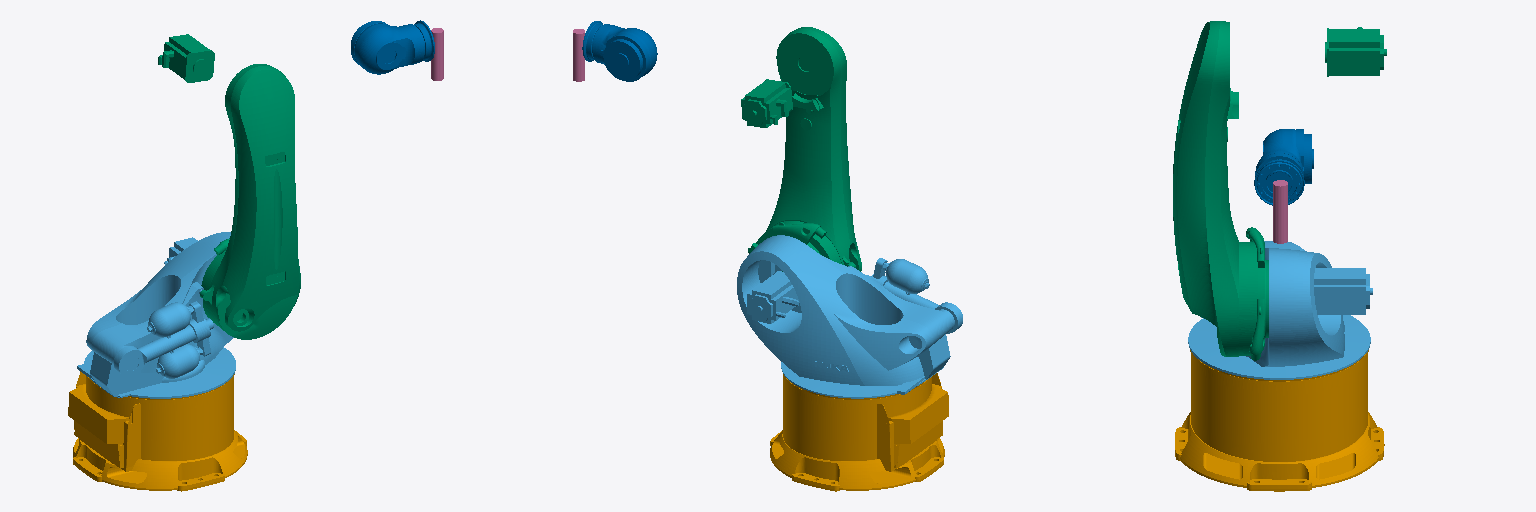
The robot description file, URDF, robot "unnamed":
<robot name="unnamed" version="1.0">
  <joint name="kuka-arm-004_link_joint" type="revolute">
    <limit lower="-1.00000" upper="1.00000" effort="1.11000" velocity="0.00000"/>
    <origin rpy="0.00000 0.00000 0.00000" xyz="0.00971 -0.01443 9.84568"/>
    <parent link="kuka-arm-005_link"/>
    <child link="kuka-arm-004_link"/>
    <axis xyz="0.00000 0.00000 1.00000"/>
  </joint>
  <joint name="kuka-arm-003_link_joint" type="revolute">
    <limit lower="-0.33000" upper="0.49000" effort="1.11000" velocity="0.00000"/>
    <origin rpy="-0.00000 -0.00000 -0.00000" xyz="8.21240 0.22730 6.83013"/>
    <parent link="kuka-arm-004_link"/>
    <child link="kuka-arm-003_link"/>
    <axis xyz="0.00000 1.00000 0.00000"/>
  </joint>
  <joint name="kuka-arm-002_link_joint" type="revolute">
    <limit lower="-0.33000" upper="0.49000" effort="1.11000" velocity="0.00000"/>
    <origin rpy="0.00000 -0.00000 0.00000" xyz="0.01569 -0.13262 21.69338"/>
    <parent link="kuka-arm-003_link"/>
    <child link="kuka-arm-002_link"/>
    <axis xyz="0.00000 1.00000 0.00000"/>
  </joint>
  <joint name="kuka-arm-001_link_joint" type="revolute">
    <limit lower="-0.33000" upper="0.49000" effort="1.11000" velocity="0.00000"/>
    <origin rpy="-0.00000 0.00000 -0.00000" xyz="16.66716 0.08146 -0.95556"/>
    <parent link="kuka-arm-002_link"/>
    <child link="kuka-arm-001_link"/>
    <axis xyz="0.00000 1.00000 0.00000"/>
  </joint>
  <joint name="kuka-arm-000_link_joint" type="revolute">
    <limit lower="0.00000" upper="0.00000" effort="0.00000" velocity="0.00000"/>
    <origin rpy="0.00000 0.00000 -0.00000" xyz="6.29044 -0.19594 0.07072"/>
    <parent link="kuka-arm-001_link"/>
    <child link="kuka-arm-000_link"/>
    <axis xyz="1.00000 0.00000 0.00000"/>
  </joint>
  <joint name="kuka-arm-000-2_link_joint" type="revolute">
    <limit lower="0.00000" upper="1.00000" effort="0.00000" velocity="0.00000"/>
    <origin rpy="0.00000 0.00000 0.00000" xyz="0.59303 0.13547 -7.77616"/>
    <parent link="kuka-arm-000_link"/>
    <child link="kuka-arm-000-2_link"/>
    <axis xyz="0.00000 0.00000 1.00000"/>
  </joint>
  <link name="kuka-arm-005_link">
    <visual name="kuka-arm-005">
      <material name="None"/>
      <origin rpy="0.00000 0.00000 0.00000" xyz="0.00000 0.00000 0.00000"/>
      <geometry>
        <mesh filename="../meshes/stl/kuka-arm-005.stl" scale="1 1 1"/>
      </geometry>
    </visual>
  </link>
  <link name="kuka-arm-004_link">
    <visual name="kuka-arm-004">
      <material name="None"/>
      <origin rpy="0.00000 0.00000 0.00000" xyz="-0.00971 0.01443 -9.84568"/>
      <geometry>
        <mesh filename="../meshes/stl/kuka-arm-004.stl" scale="1 1 1"/>
      </geometry>
    </visual>
  </link>
  <link name="kuka-arm-003_link">
    <visual name="kuka-arm-003">
      <material name="None"/>
      <origin rpy="-0.00000 -0.00000 0.00000" xyz="-8.22211 -0.21286 -16.67581"/>
      <geometry>
        <mesh filename="../meshes/stl/kuka-arm-003.stl" scale="1 1 1"/>
      </geometry>
    </visual>
  </link>
  <link name="kuka-arm-002_link">
    <visual name="kuka-arm-002">
      <material name="None"/>
      <origin rpy="-0.00000 0.00000 -0.00000" xyz="-8.23780 -0.08024 -38.36919"/>
      <geometry>
        <mesh filename="../meshes/stl/kuka-arm-002.stl" scale="1 1 1"/>
      </geometry>
    </visual>
  </link>
  <link name="kuka-arm-001_link">
    <collision name="kuka-arm-001_collision">
      <origin rpy="-0.00000 1.57080 0.00000" xyz="3962.42564 508.56456 1264.73506"/>
      <geometry>
        <cylinder radius="6178.39258" length="18123.28516"/>
      </geometry>
    </collision>
    <visual name="kuka-arm-001">
      <material name="None"/>
      <origin rpy="0.00000 0.00000 0.00000" xyz="-24.90497 -0.16170 -37.41364"/>
      <geometry>
        <mesh filename="../meshes/stl/kuka-arm-001.stl" scale="1 1 1"/>
      </geometry>
    </visual>
  </link>
  <link name="kuka-arm-000_link">
    <visual name="kuka-arm-000">
      <material name="None"/>
      <origin rpy="0.00000 0.00000 0.00000" xyz="-1.49540 0.03424 0.03768"/>
      <geometry>
        <mesh filename="../meshes/stl/kuka-arm-000.stl" scale="1 1 1"/>
      </geometry>
    </visual>
  </link>
  <link name="kuka-arm-000-2_link">
    <visual name="kuka-arm-000-2">
      <material name="None"/>
      <origin rpy="0.00000 0.00000 0.00000" xyz="-0.00000 0.00000 -0.00000"/>
      <geometry>
        <mesh filename="../meshes/stl/Cylinder.003.stl" scale="1 1 1"/>
      </geometry>
    </visual>
  </link>
</robot>

--- Render facts (derived) ---
3 views of the same robot in one strip: view 1: azimuth 30°, elevation 25°; view 2: azimuth 150°, elevation 25°; view 3: azimuth 270°, elevation 25° (orthographic).
Robot: unnamed — 7 links, 6 joints (6 revolute); root link kuka-arm-005_link; default pose: every joint at zero.
Links seen in each view (by area): view 1: kuka-arm-003_link, kuka-arm-004_link, kuka-arm-005_link, kuka-arm-001_link, kuka-arm-000-2_link; view 2: kuka-arm-004_link, kuka-arm-003_link, kuka-arm-005_link, kuka-arm-001_link, kuka-arm-000-2_link; view 3: kuka-arm-003_link, kuka-arm-005_link, kuka-arm-004_link, kuka-arm-001_link, kuka-arm-000-2_link.
Link boxes in pixels (<box>): kuka-arm-003_link: <box>158,34,300,339</box>; kuka-arm-004_link: <box>77,232,235,398</box>; kuka-arm-005_link: <box>68,371,247,491</box>; kuka-arm-001_link: <box>351,20,434,74</box>; kuka-arm-000-2_link: <box>431,28,443,80</box>; kuka-arm-004_link: <box>737,235,962,398</box>; kuka-arm-003_link: <box>741,27,861,271</box>; kuka-arm-005_link: <box>770,373,948,491</box>; kuka-arm-001_link: <box>582,21,657,81</box>; kuka-arm-000-2_link: <box>573,29,584,81</box>; kuka-arm-003_link: <box>1173,21,1386,360</box>; kuka-arm-005_link: <box>1175,350,1384,491</box>; kuka-arm-004_link: <box>1188,241,1372,379</box>; kuka-arm-001_link: <box>1254,129,1313,205</box>; kuka-arm-000-2_link: <box>1273,180,1287,243</box>.
Size in the robot's own frame: 41.63 by 18 by 43.05 metres.
5 mesh visuals loaded from 7 distinct referenced files (5 binary STL); not drawn: 2 (reference not matched to a file when rendering).